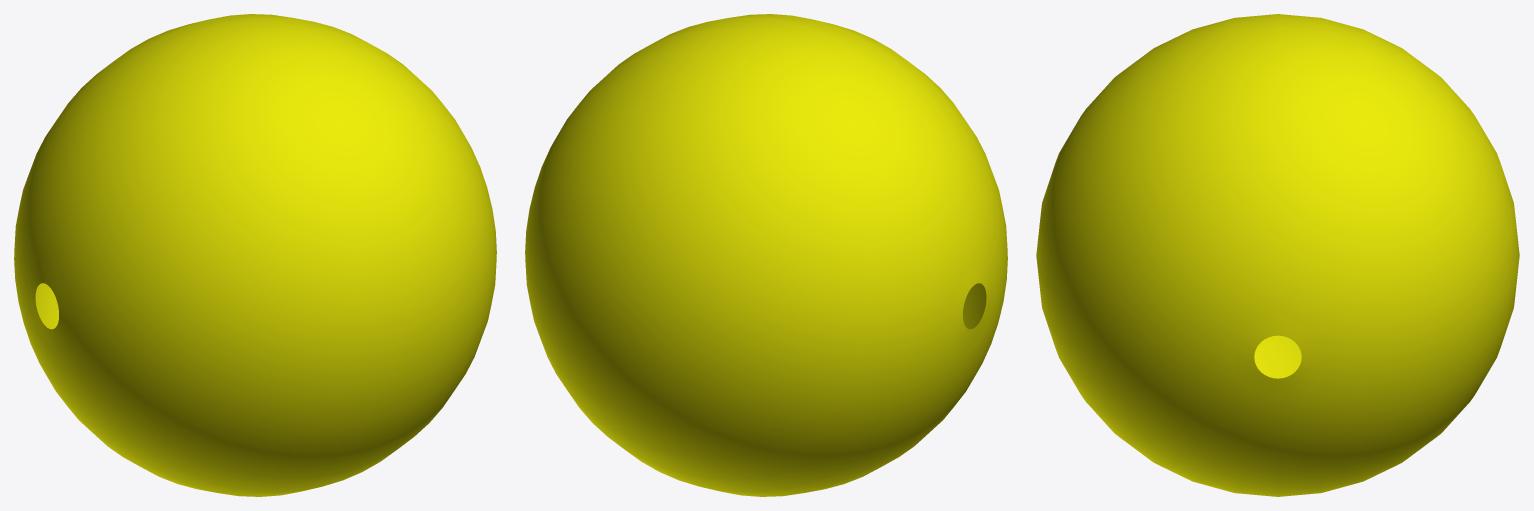
3 renders of one model, left to right at view 1: azimuth 30°, elevation 25°; view 2: azimuth 150°, elevation 25°; view 3: azimuth 270°, elevation 25°, orthographic.
Parts seen in each view (by area): view 1: pSphere5; view 2: pSphere5; view 3: pSphere5.
Part boxes in pixels (box(x1,y1,x2,y2)): pSphere5: box(14, 14, 496, 496); pSphere5: box(525, 14, 1007, 496); pSphere5: box(1036, 14, 1519, 496).
Bounding box in the file's own units: 53.97 × 54.23 × 54.23.
